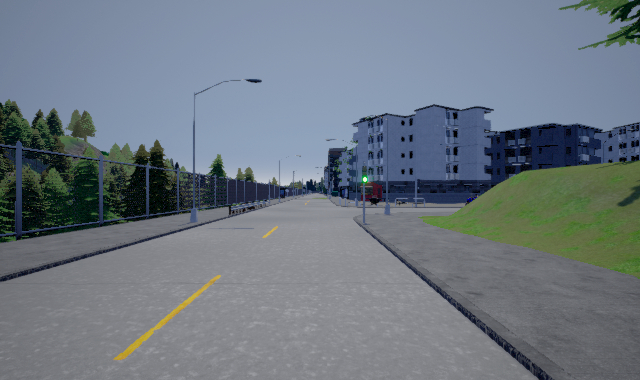traffic_light: (362, 165, 368, 184)
